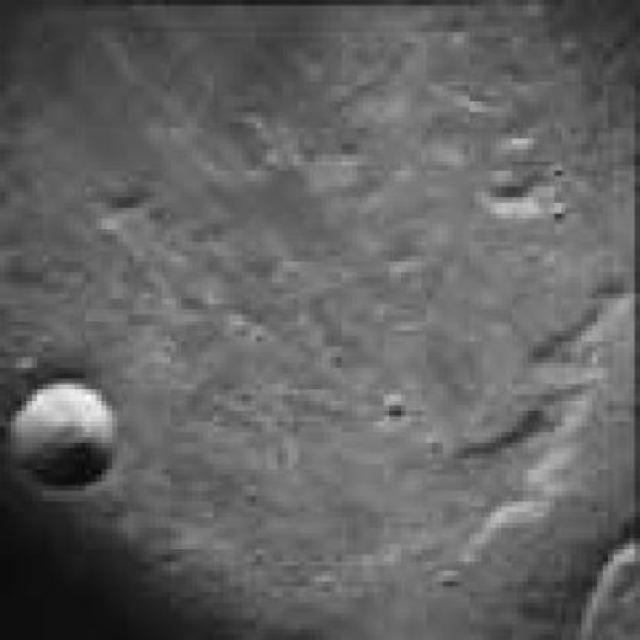crater: (9, 380, 111, 497)
